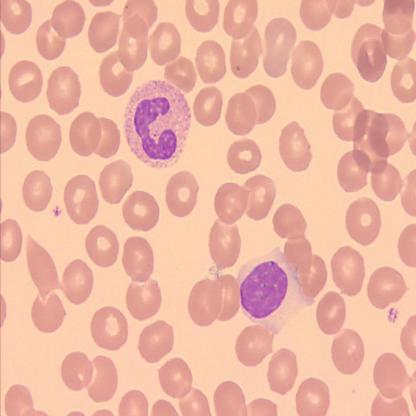Band Neutrophil: (122, 77, 193, 172)
